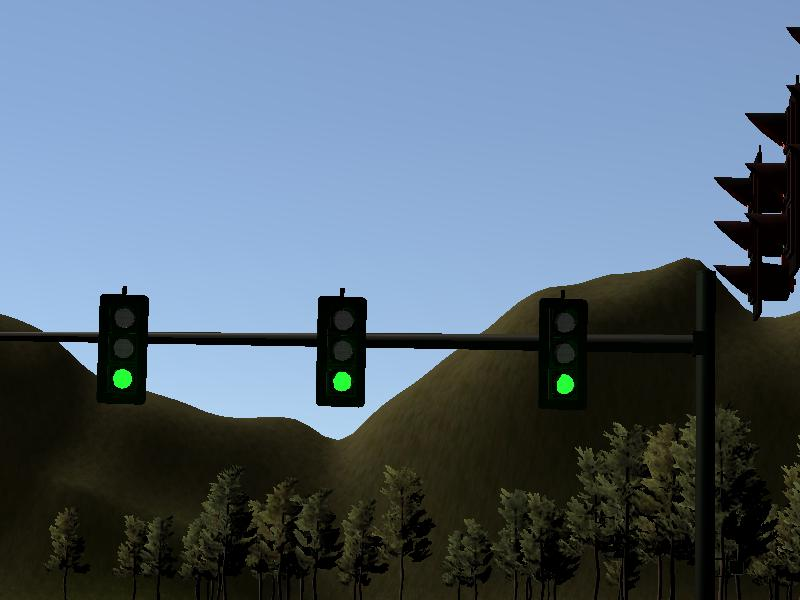not_red: (100, 295, 147, 403), (318, 294, 362, 407), (539, 297, 585, 404)
